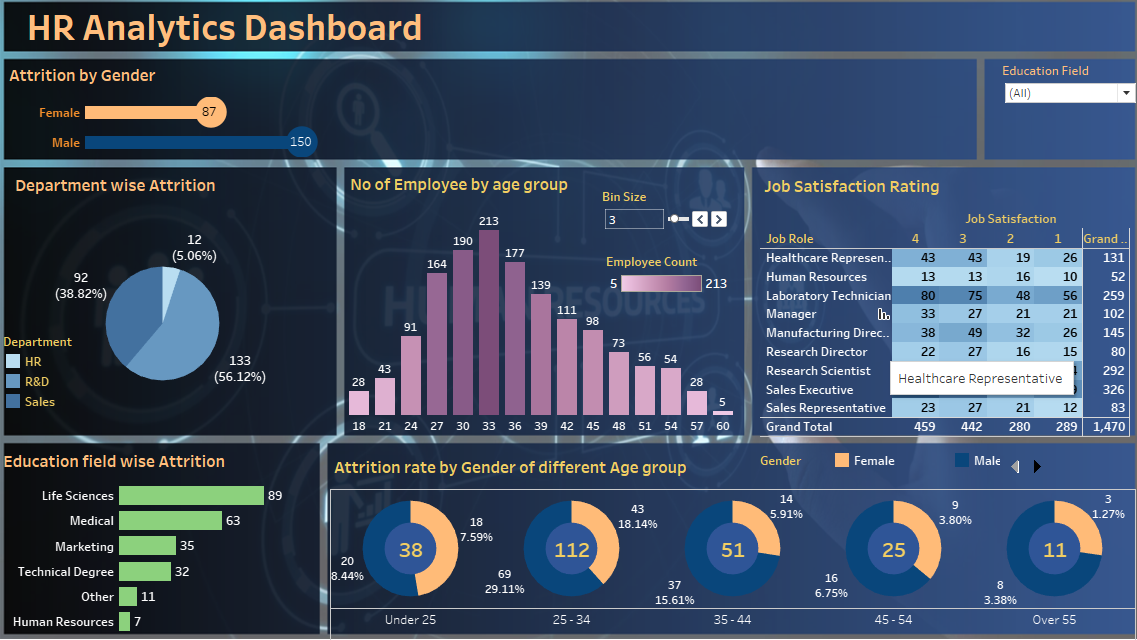

The dashboard page shown, as its layout file describes it:
{"tool":"tableau","page":{"name":"HR Analytics Dashboards","canvas":[1000,1000],"units":"permille","ordinal":1},"visuals":[{"type":"image","param":"Image/HR background.pptx.png","box":[7,11.4,986,977.1]},{"type":"text","box":[15.9,60,952.2,72.9]},{"type":"worksheet","title":"Attrition by Gender ","mark":"Automatic","rows":["Gender"],"cols":["Calculation_1703205091797905408","Calculation_1703205091797905408"],"box":[856.6,141.4,130.1,137.1]},{"type":"filter","title":"Education field wise Attrition ","param":"[federated.1e1c0p4103vcgh19b0wxw0l6xnga].[none:Education Field:nk]","box":[649.7,144.3,141.3,134.3]},{"type":"worksheet","title":"KPI","mark":"Automatic","box":[15,148.6,832.7,128.6]},{"type":"worksheet","title":"Department wise Attrition","mark":"Pie","box":[14.9,290,286.2,374.3]},{"type":"parameter","param":"[Parameters].[Parameter 1]","box":[503.5,290,154.9,67.1]},{"type":"worksheet","title":"No of Employee by age group","mark":"Automatic","rows":["Employee Count"],"cols":["Age (bin)"],"box":[308.9,292.9,342.5,368.6]},{"type":"worksheet","title":"Job Satisfaction Rating ","mark":"Square","rows":["Job Role"],"cols":["Job Satisfaction"],"box":[654.9,292.9,314.2,368.6]},{"type":"legend","title":"No of Employee by age group","param":"[federated.1e1c0p4103vcgh19b0wxw0l6xnga].[sum:Employee Count:qk]","box":[505.3,354.3,123.9,60]},{"type":"legend","title":"Department wise Attrition","param":"[federated.1e1c0p4103vcgh19b0wxw0l6xnga].[none:Department:nk]","box":[15,547.1,63.7,111.4]},{"type":"worksheet","title":"Education field wise Attrition ","mark":"Automatic","rows":["Education Field"],"cols":["Calculation_1703205091797905408"],"box":[11.5,671.4,277,272.9]},{"type":"worksheet","title":"Attrition rate by Gender of different Age group ","mark":"Pie","rows":["Calculation_1703205096357101576","Calculation_1703205096357101576"],"cols":["CF_age band"],"box":[293.8,672.9,693.8,267.1]},{"type":"legend","title":"Attrition rate by Gender of different Age group ","param":"[federated.1e1c0p4103vcgh19b0wxw0l6xnga].[none:Gender:nk]","box":[676.1,680,306.2,41.4]}]}

Visuals, with their boxes on the dashboard's canvas, which has no fixed pixel size, in thousandths of its width and height (x1, y1, x2, y2). These are canvas units, not pixel positions in the 1137x640 screenshot, which may show the page scaled, cropped or inside an application window:
image: 7 11 993 988
text: 16 60 968 133
"Attrition by Gender " worksheet: 857 141 987 278
"Education field wise Attrition " filter: 650 144 791 279
"KPI" worksheet: 15 149 848 277
"Department wise Attrition" worksheet (Pie marks): 15 290 301 664
parameter: 504 290 658 357
"No of Employee by age group" worksheet: 309 293 651 662
"Job Satisfaction Rating " worksheet (Square marks): 655 293 969 662
"No of Employee by age group" legend: 505 354 629 414
"Department wise Attrition" legend: 15 547 79 658
"Education field wise Attrition " worksheet: 12 671 288 944
"Attrition rate by Gender of different Age group " worksheet (Pie marks): 294 673 988 940
"Attrition rate by Gender of different Age group " legend: 676 680 982 721
